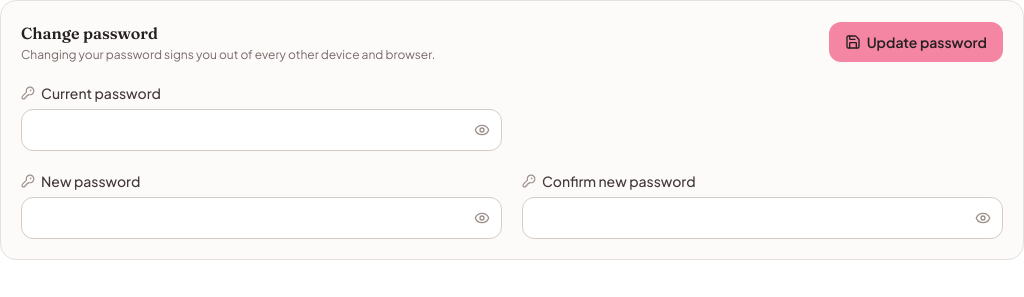
ChangePasswordForm › rejects a new password shorter than 8 characters
Step 1. Type "oldpass1" into the password field labelled "Current password" → (262, 130), box 21,109 -> 502,151
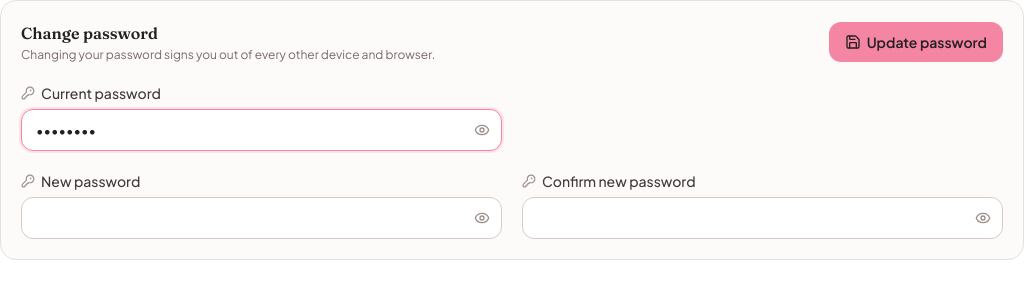
Step 2. Type "short" into the password field labelled "New password" → (262, 218), box 21,197 -> 502,239
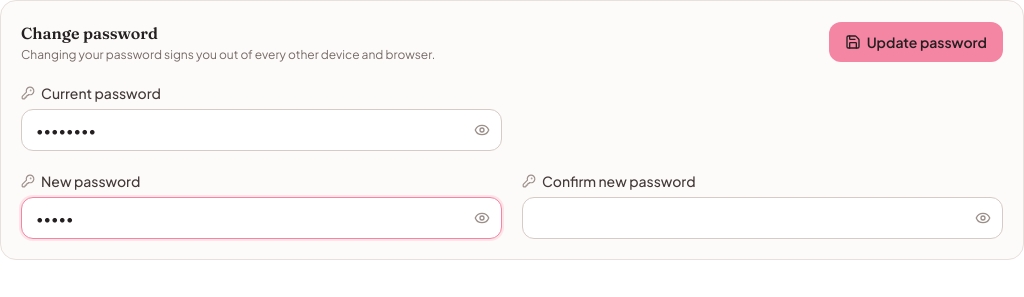
Step 3. Type "short" into the password field labelled "Confirm new password" → (762, 218), box 522,197 -> 1003,239
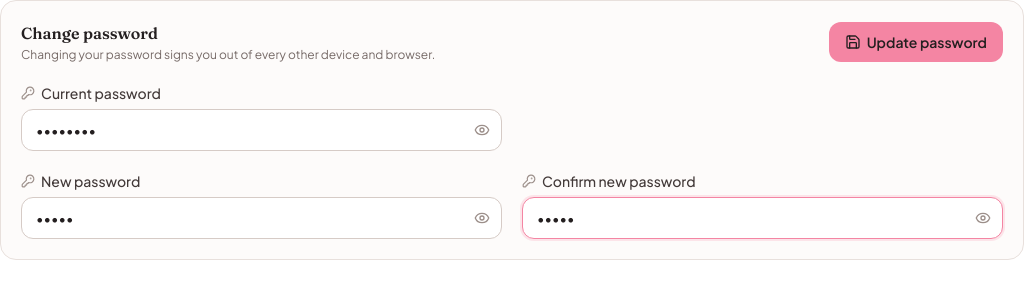
Step 4. Click the button "Update password" → (916, 42), box 829,22 -> 1003,62
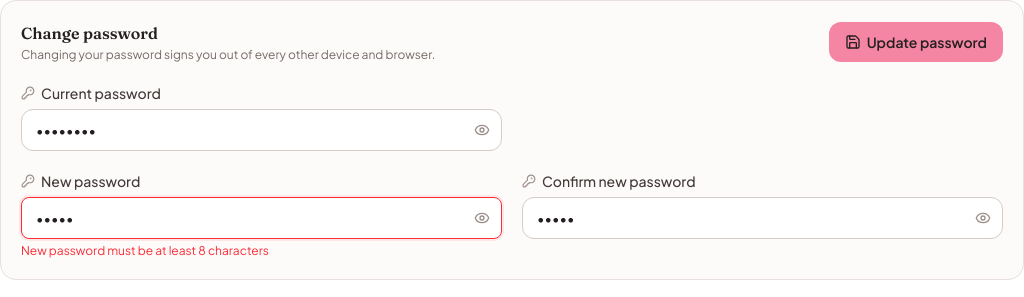
Check: the text "New password must be at least 8 characters" is shown, box 21,243 -> 269,258
